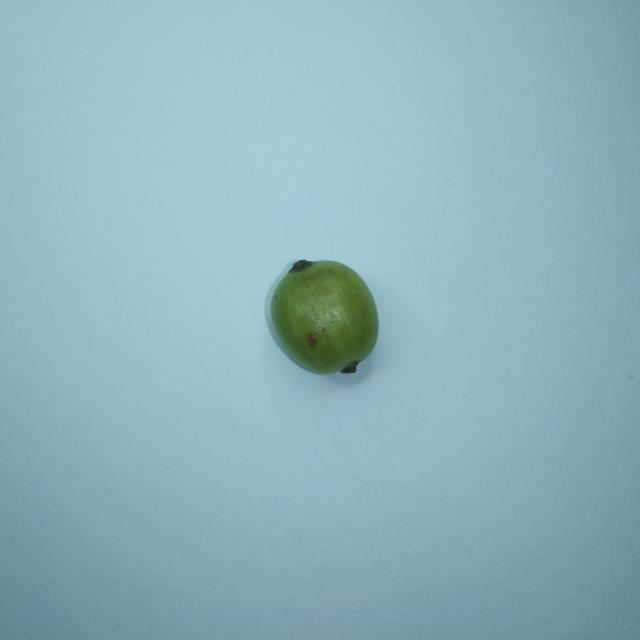Sano: (266, 260, 378, 374)
